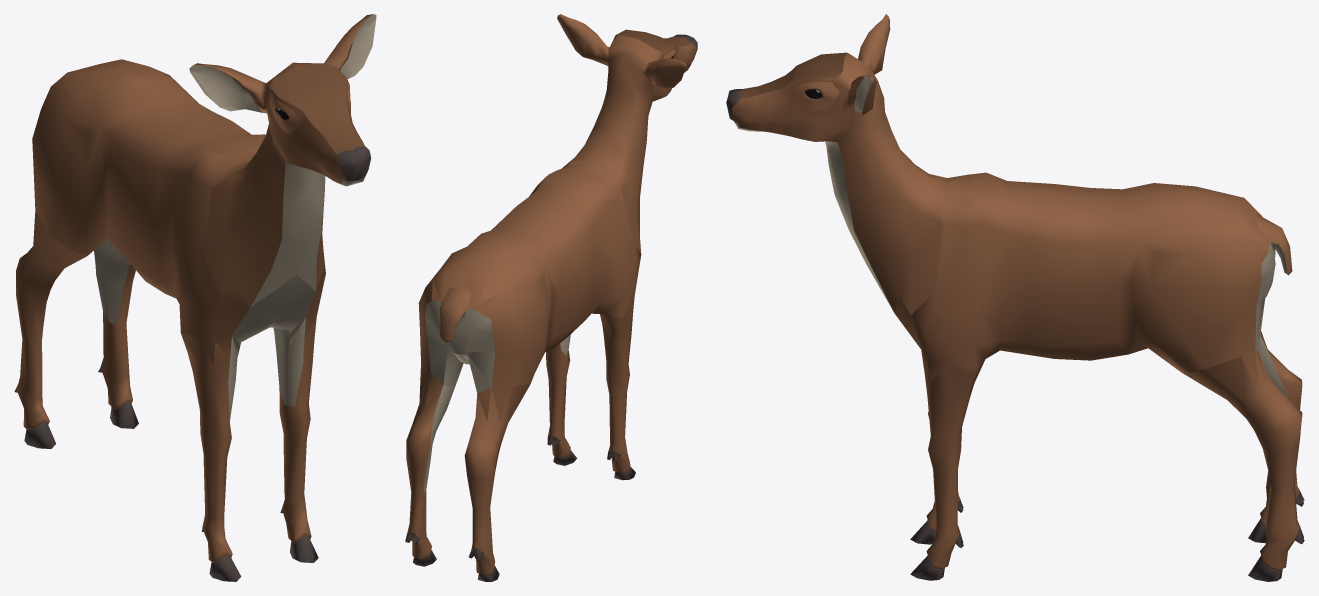
File: deer.glb
3 views of the same model, side by side, from view 1: azimuth 30°, elevation 25°; view 2: azimuth 150°, elevation 25°; view 3: azimuth 270°, elevation 25° (orthographic). The views are drawn at different scales.
Visible parts, largest first — view 1: body, head, legFR, legBR, legFL, legBL; view 2: body, head, legBR, tail, legBL, legFR, legFL; view 3: body, head, legBL, legFL, legBR, tail.
Boxes of the visible parts, x1,y1,x2,y2 form: body: (32,59,325,363); head: (189,14,376,307); legFR: (181,333,241,581); legBR: (14,211,86,448); legFL: (273,317,318,562); legBL: (94,238,138,428); body: (418,158,641,422); head: (557,14,697,253); legBR: (464,384,530,581); tail: (425,274,496,393); legBL: (405,374,457,566); legFR: (600,304,635,480); legFL: (546,334,577,465); body: (894,172,1269,394); head: (726,14,946,314); legBL: (1182,350,1304,581); legFL: (910,360,984,580); legBR: (1248,335,1304,543); tail: (1247,201,1292,350).
Bounding box in the file's own units: 0.6083 × 1.81 × 1.85.
